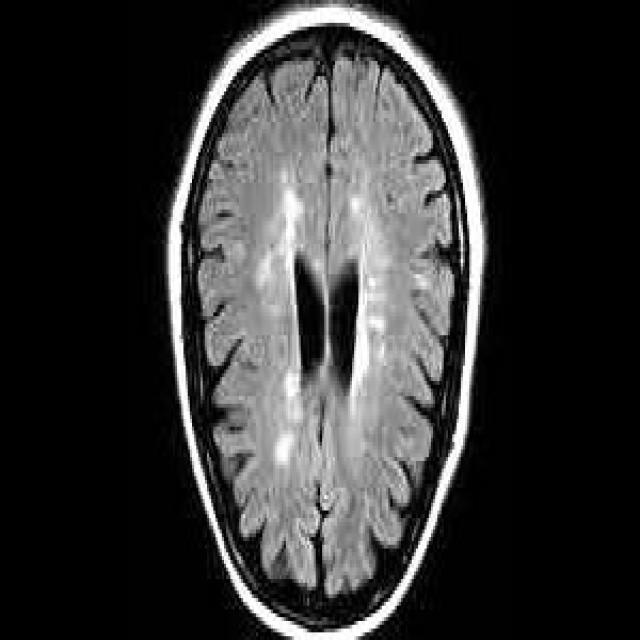notumor: (169, 0, 484, 632)
